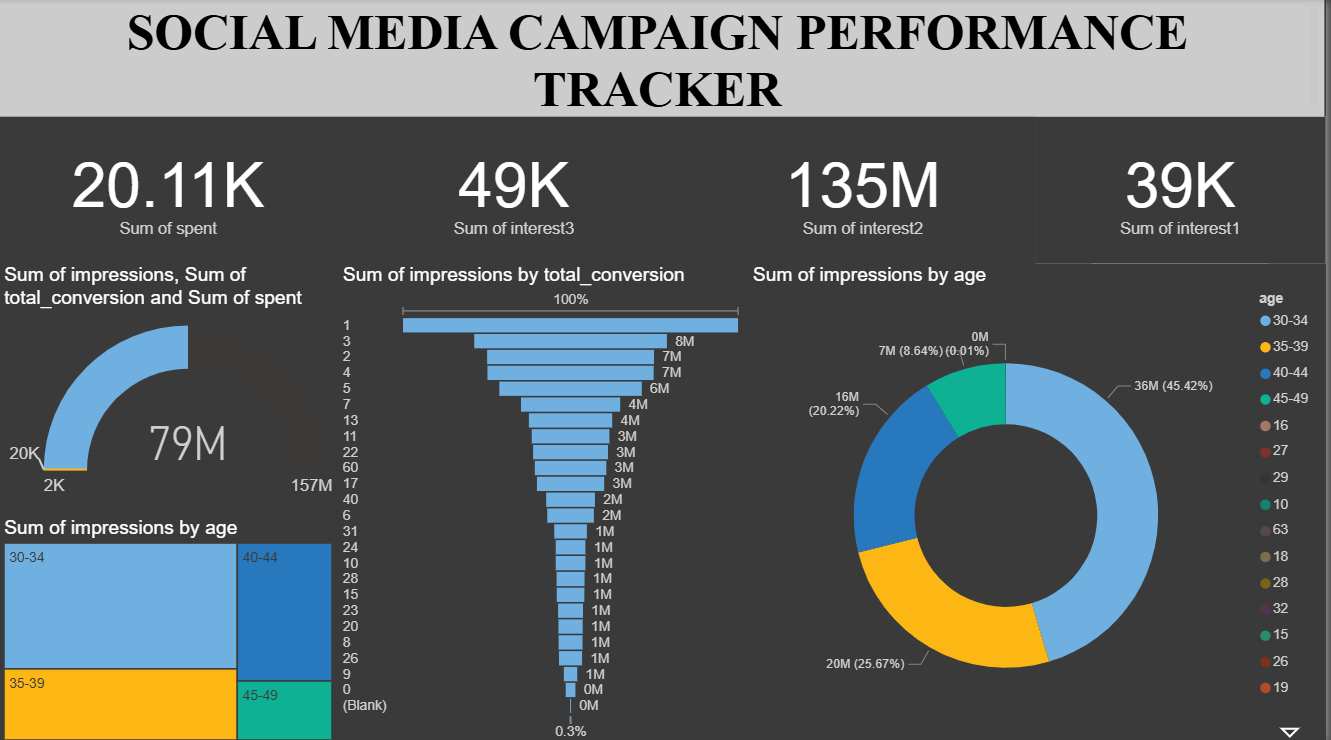

The page's visual inventory and layout, read from the dashboard file:
{"tool":"powerbi","page":{"name":"Page 1","canvas":[1280,720],"ordinal":0},"visuals":[{"type":"card","box":[1000.3,113.9,279.9,141.3],"z":0},{"type":"card","fields":{"Values":["Sum(data.interest1)"]},"box":[1000.3,113.9,279.9,141.3],"z":1000},{"type":"card","fields":{"Values":["Sum(data.interest2)"]},"box":[666.9,113.9,333.4,141.3],"z":2000},{"type":"card","fields":{"Values":["Sum(data.interest3)"]},"box":[326.6,113.9,340.3,141.3],"z":3000},{"type":"card","fields":{"Values":["Sum(data.spent)"]},"box":[0,113.9,326.6,141.3],"z":4000},{"type":"gauge","fields":{"Y":["Sum(data.impressions)"],"TargetValue":["Sum(data.spent)"],"MinValue":["Sum(data.total_conversion)"]},"box":[0,255.2,326.6,244.3],"z":5000},{"type":"funnel","fields":{"Y":["Sum(data.impressions)"],"Category":["data.total_conversion"]},"box":[326.6,255.2,396.6,465.2],"z":6000},{"type":"donutChart","fields":{"Y":["Sum(data.impressions)"],"Category":["data.age"]},"box":[723.2,255.2,555.7,465.2],"z":7000},{"type":"treemap","fields":{"Values":["Sum(data.impressions)"],"Details":["data.age"]},"box":[0,499.5,326.6,220.9],"z":8000},{"type":"textbox","box":[0,0,1278.9,113.9],"z":9000}]}

Visuals, with their boxes in screenshot pixels (x1, y1, x2, y2), scaled from the page's 1280x720 canvas onto the 1331x740 screenshot:
card: (x1=1040, y1=117, x2=1330, y2=262)
card - Sum(data.interest1): (x1=1040, y1=117, x2=1330, y2=262)
card - Sum(data.interest2): (x1=693, y1=117, x2=1040, y2=262)
card - Sum(data.interest3): (x1=340, y1=117, x2=693, y2=262)
card - Sum(data.spent): (x1=0, y1=117, x2=340, y2=262)
gauge - Sum(data.impressions) x Sum(data.spent): (x1=0, y1=262, x2=340, y2=513)
funnel - Sum(data.impressions) x data.total_conversion: (x1=340, y1=262, x2=752, y2=739)
donutChart - Sum(data.impressions) x data.age: (x1=752, y1=262, x2=1330, y2=739)
treemap - Sum(data.impressions) x data.age: (x1=0, y1=513, x2=340, y2=739)
textbox: (x1=0, y1=0, x2=1330, y2=117)
